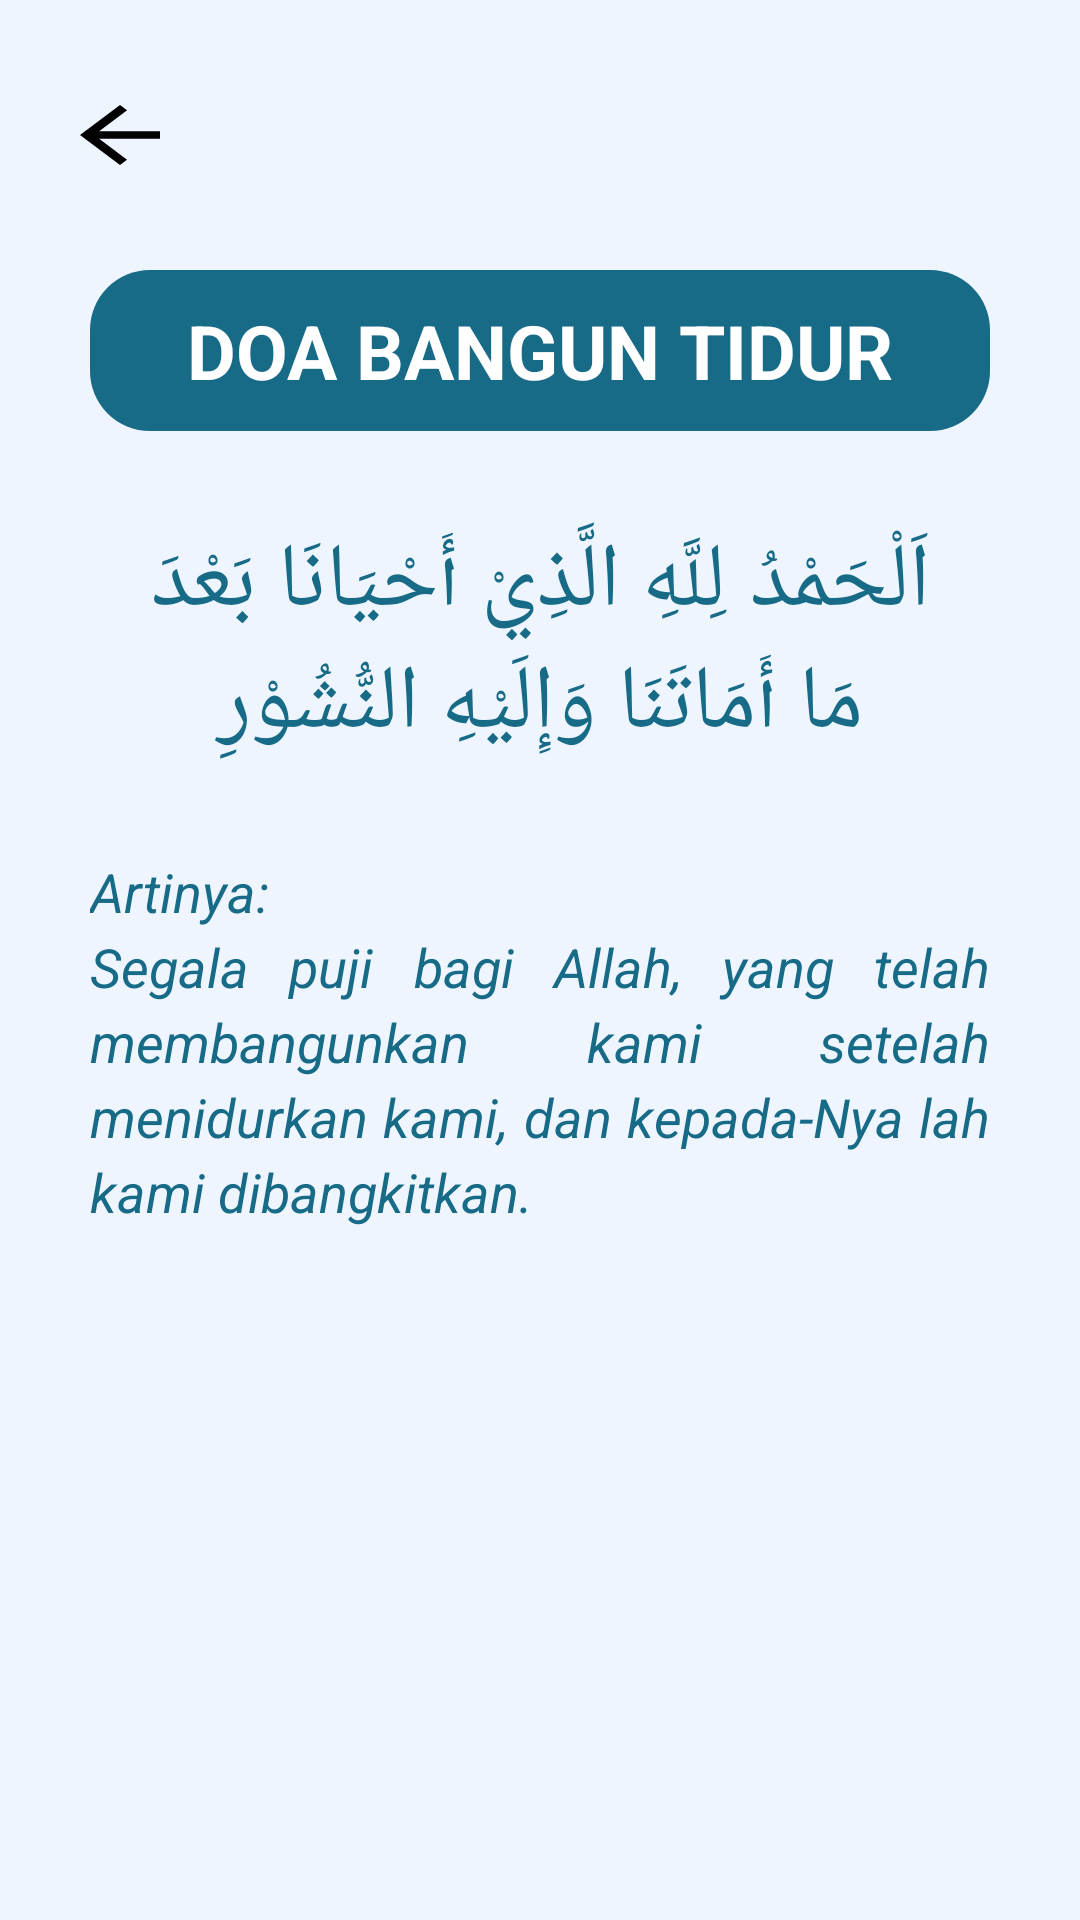

Icon click points for this 1080 x 1920 phone screenshot, format (x,y):
arrow back: (120,135)
